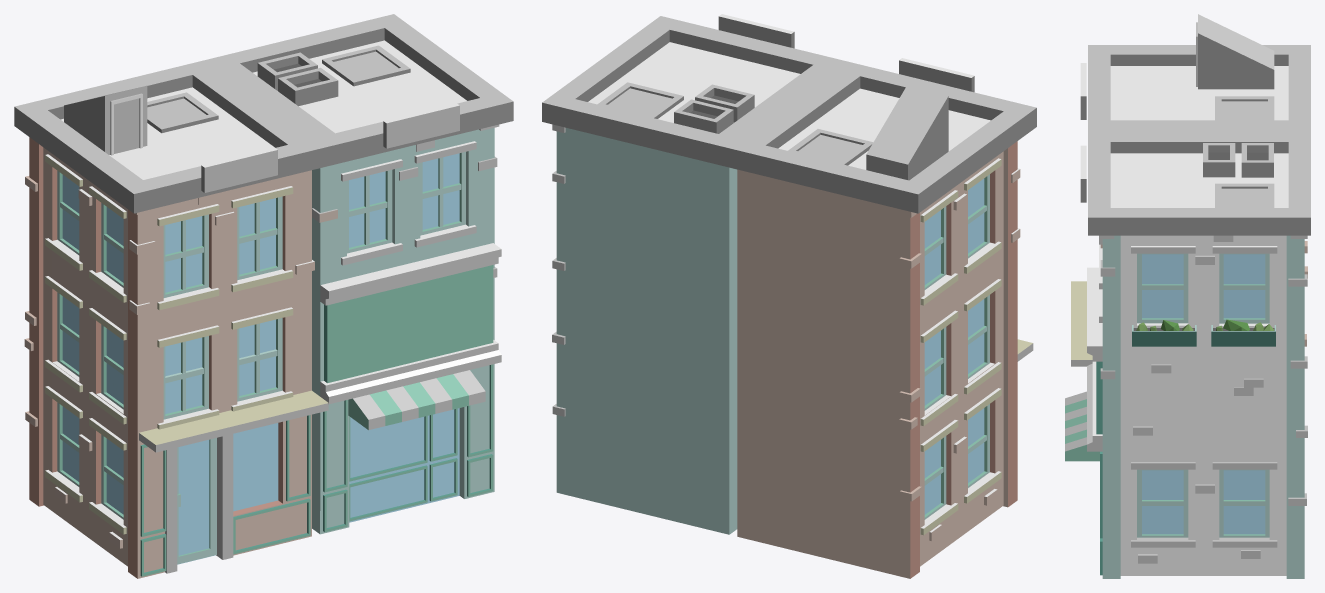
The model's file is house_small_2_003.fbx.
3 views of the same model, side by side, from view 1: azimuth 30°, elevation 25°; view 2: azimuth 150°, elevation 25°; view 3: azimuth 270°, elevation 25° (orthographic). The views are drawn at different scales.
Visible parts, largest first — view 1: house_small_2_003; view 2: house_small_2_003; view 3: house_small_2_003.
Part boxes in pixels (x1=…): house_small_2_003: x1=14, y1=14, x2=513, y2=578; house_small_2_003: x1=542, y1=14, x2=1036, y2=578; house_small_2_003: x1=1065, y1=14, x2=1310, y2=578.
Size of the model in its own units: 716 by 794 by 431.
